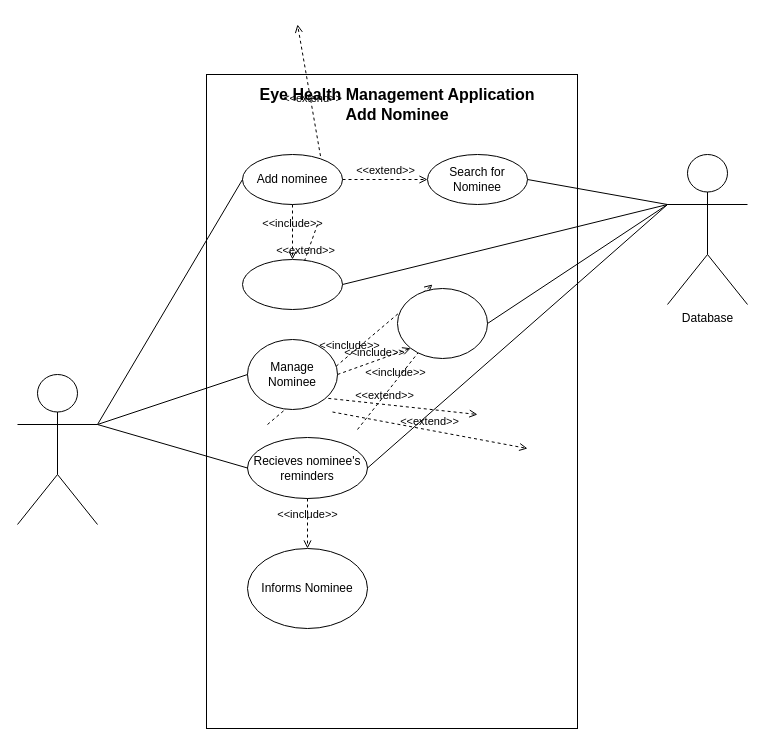
The diagram is 765 pixels wide and 746 high, and some of its shapes have lost their labels. The shapes that lost their labels are listed below. From the top down, each one's centre as x and y in pixels, then its label:
(292,284): Store nominee details
(442,323): Remove Nominee
(57,449): User
